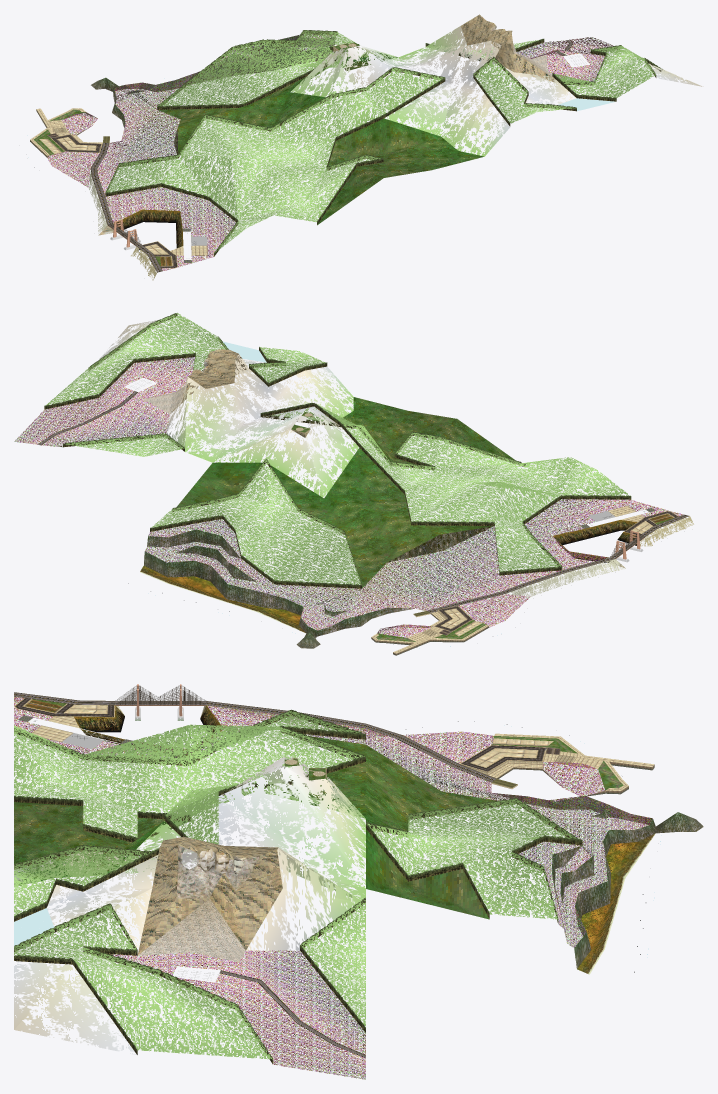
The model's file is world-6.glb.
3 views of the same model, one above another, from view 1: azimuth 30°, elevation 25°; view 2: azimuth 150°, elevation 25°; view 3: azimuth 270°, elevation 25° (orthographic). The views are drawn at different scales.
Parts seen in each view (by area): view 1: world-6; view 2: world-6; view 3: world-6.
Part boxes in pixels (x1=…): world-6: x1=30, y1=14, x2=703, y2=280; world-6: x1=14, y1=313, x2=693, y2=655; world-6: x1=14, y1=684, x2=703, y2=1079.
Size of the model in its own units: 2896 by 537 by 1961.
37 materials, 37 textured.
